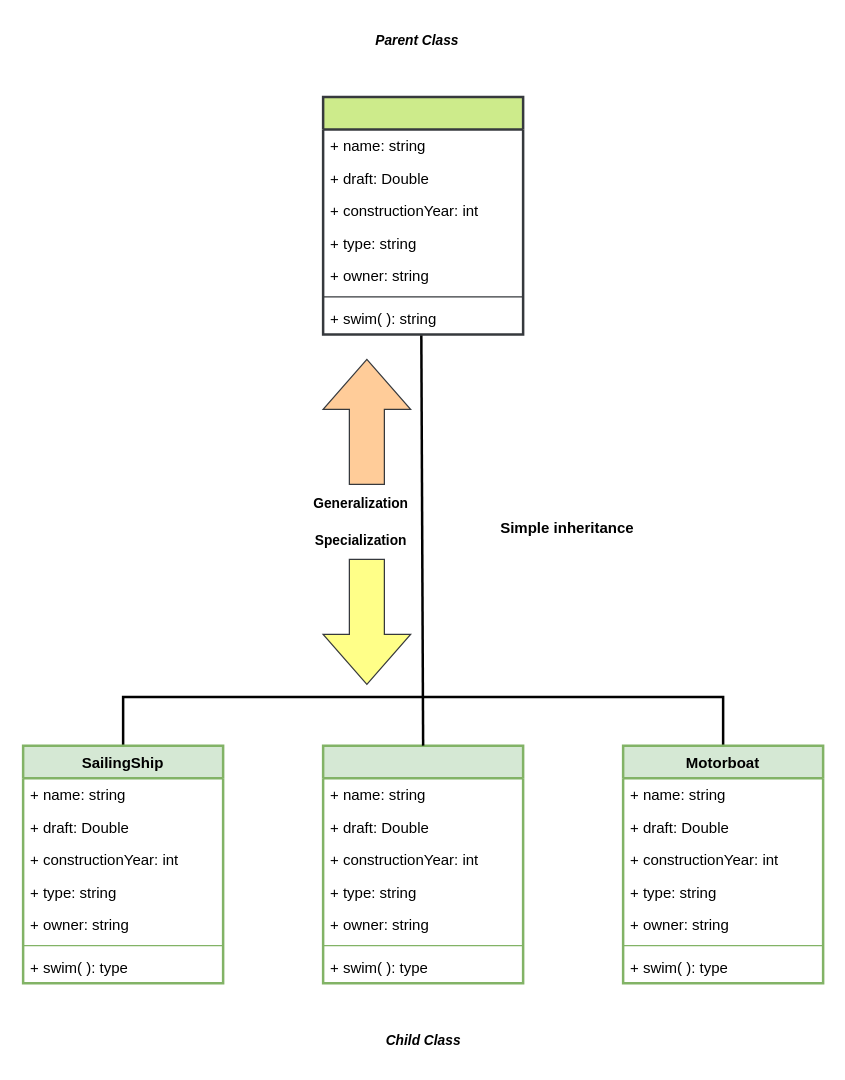
This 845x1080 diagram has some shape labels left out. The box of each missing label's shape, as (x1, y1, x2, y2) in pixels:
Trawler: (321, 744, 524, 984)
Watercraft: (321, 95, 524, 335)
